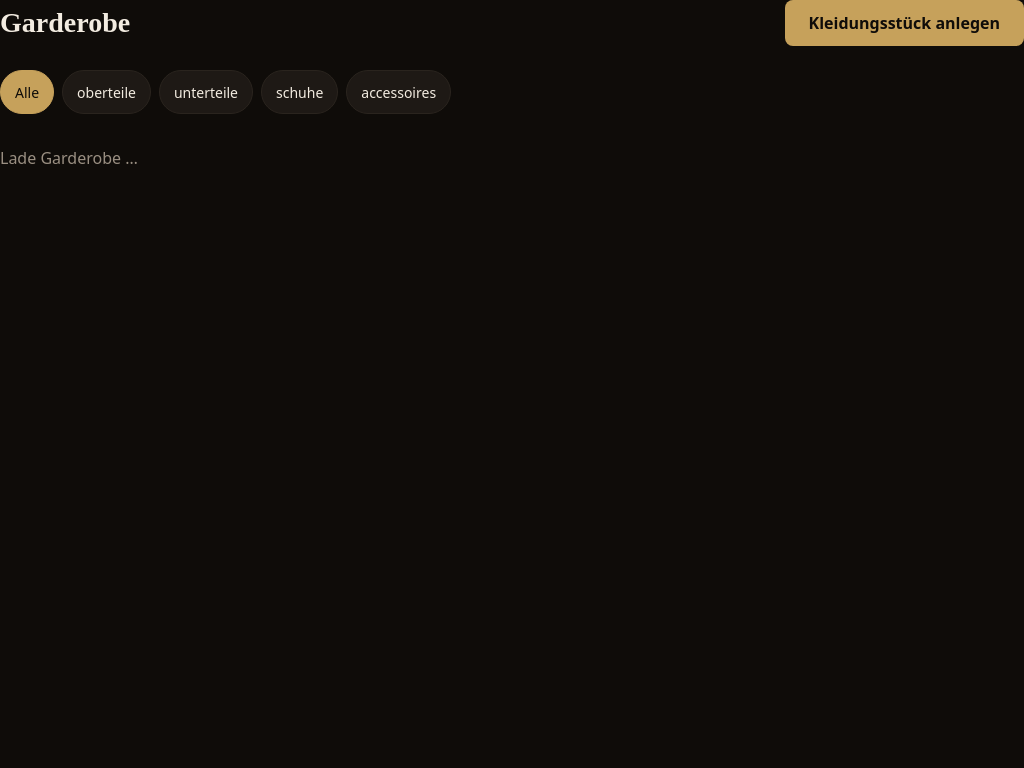
Scenario: WardrobePage – Fehlermeldungen › zeigt eine verständliche Meldung bei falschem Dateiformat (415)
Step 1. Click the button "Kleidungsstück anlegen" → (904, 23), box [785,0,1023,46]
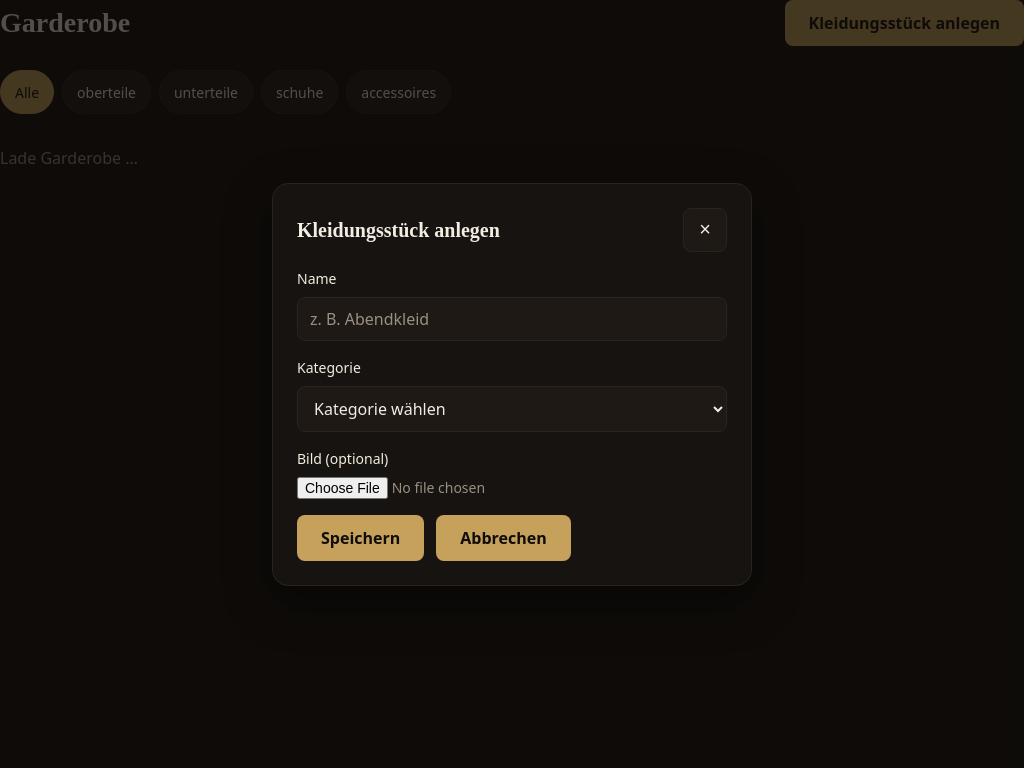
Expected: the field labelled "Name" is shown
Step 2. Type "Abendkleid" into the field labelled "Name" → (512, 318), box [297,296,727,340]
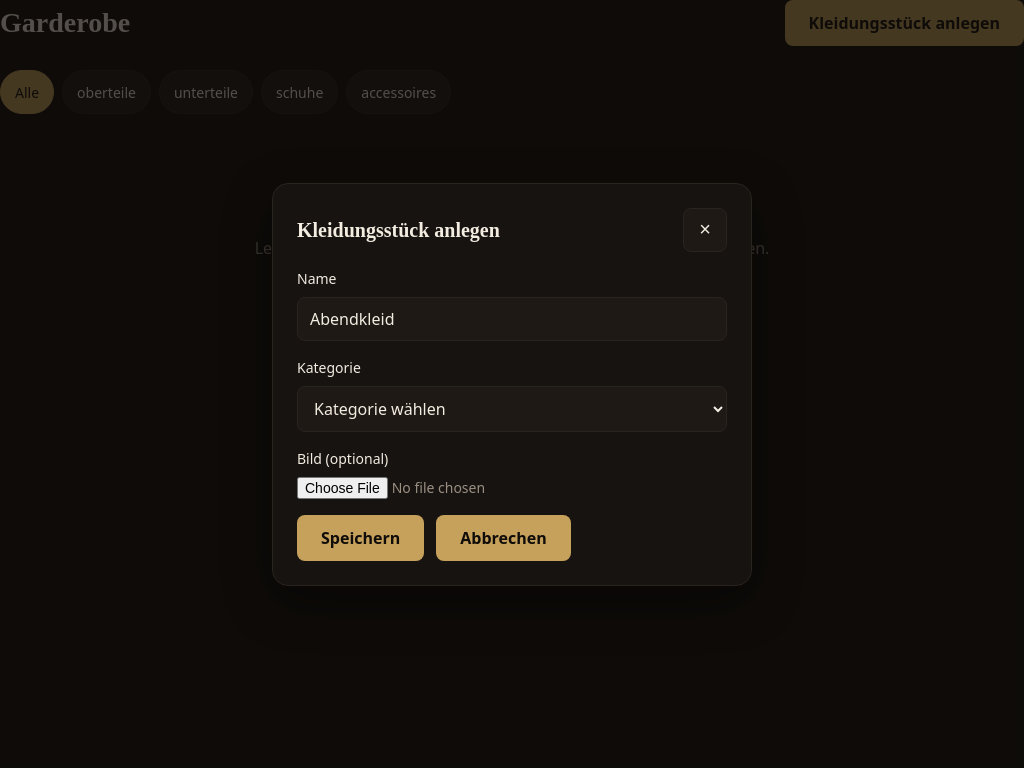
Step 3. Select "oberteile" in the dropdown labelled "Kategorie" → (512, 408), box [297,386,727,432]
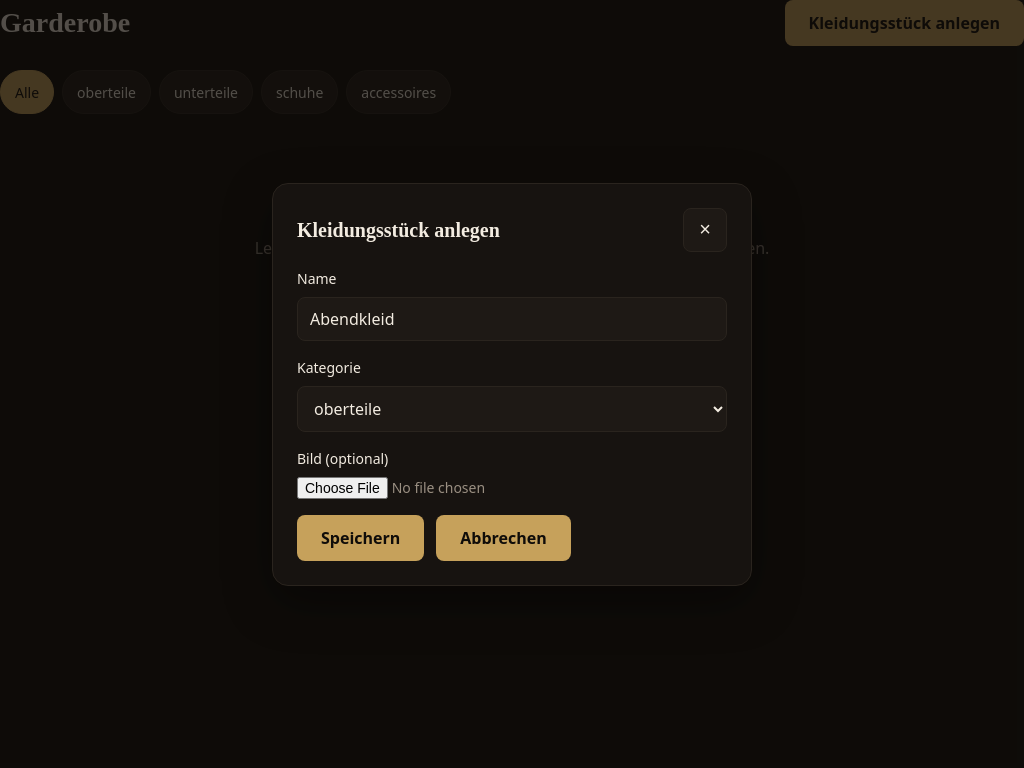
Step 4. Click the button "Speichern" → (361, 538), box [297,514,424,560]
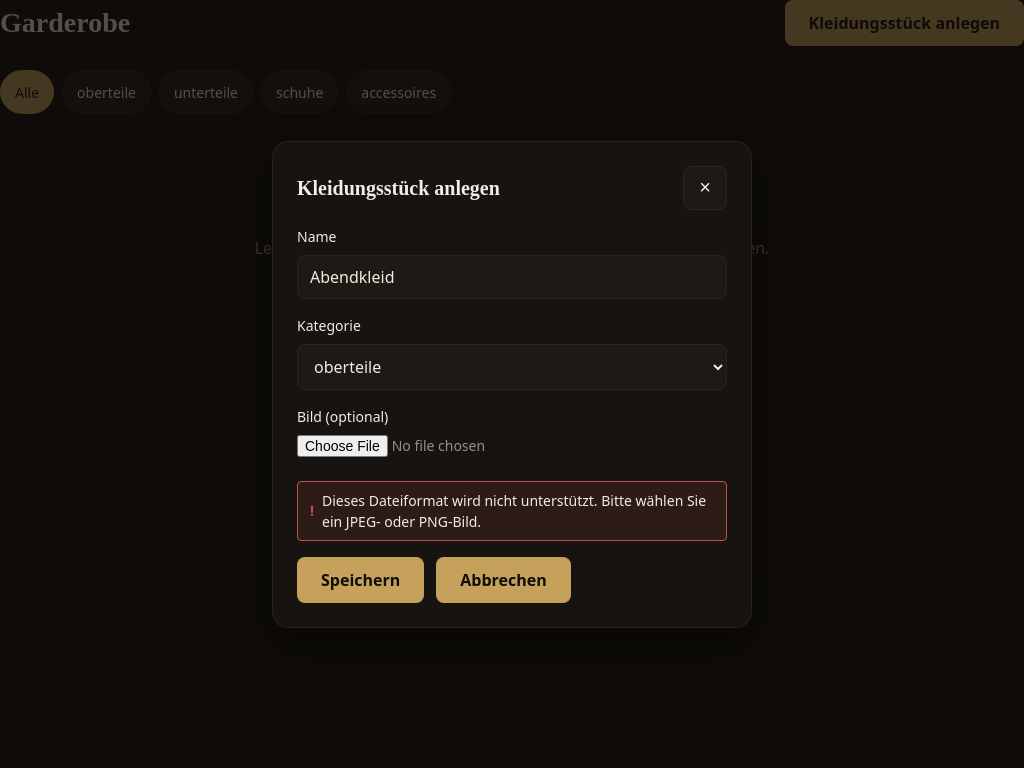
Expected: the text "nicht unterstützt" is shown, [322,490,706,530]
